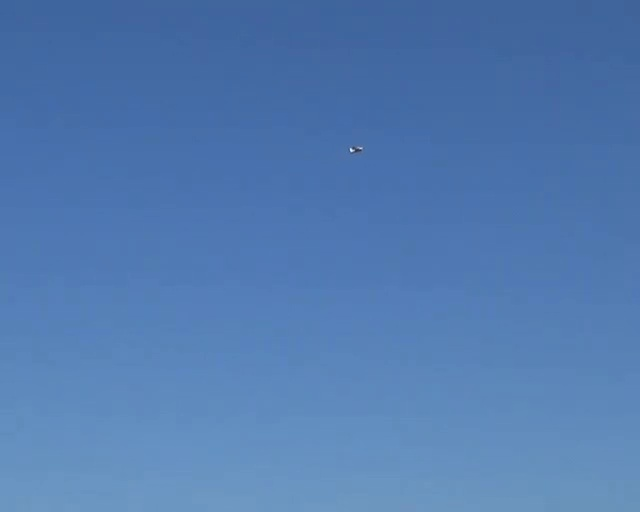AIRPLANE: (348, 145, 363, 154)
